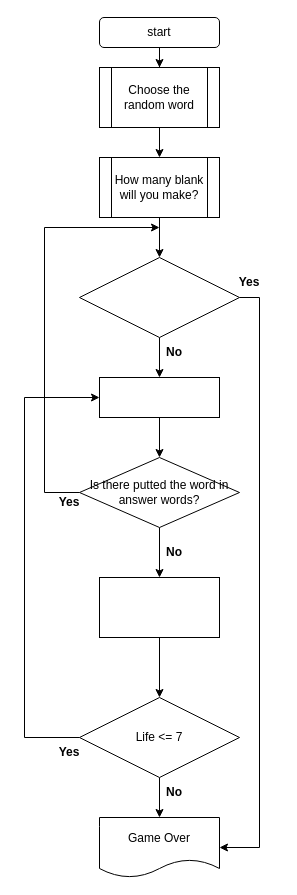
Some shapes in this 297 by 895 pixel diagram are drawn without their labels. Here are the shapes that lost their labels. From the top down, the centre of each, then its label:
At (159,297): "Complete the game?".
At (159,397): "Input word".
At (159,607): "Hanging the man".
